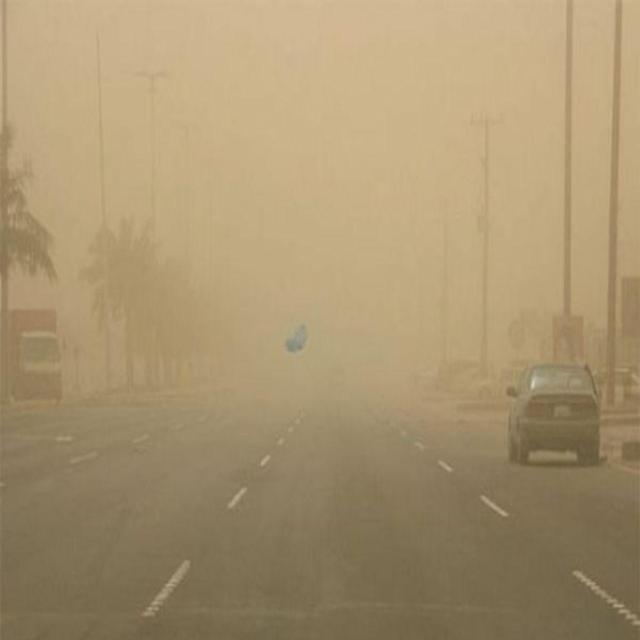Car: (498, 349, 609, 474)
